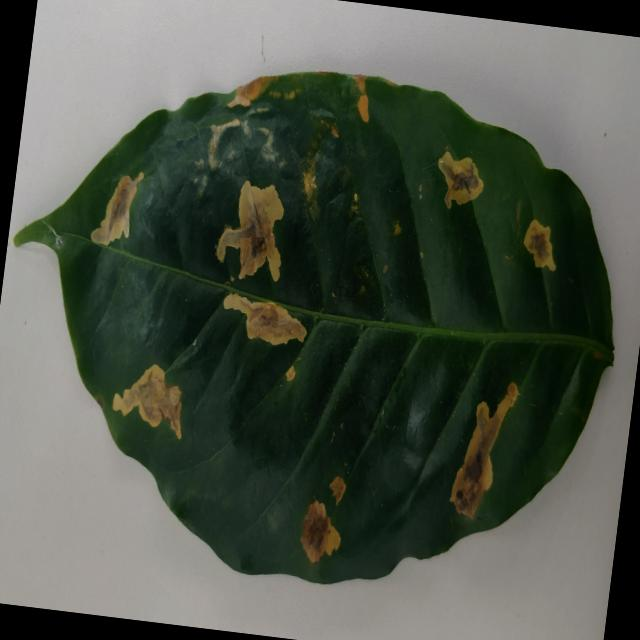KaratDaunKopi: (450, 381, 518, 519), (216, 180, 283, 281), (112, 364, 181, 438), (223, 293, 306, 344), (91, 172, 143, 245), (438, 151, 483, 208), (300, 500, 340, 563), (208, 118, 240, 170), (523, 219, 555, 270), (227, 76, 277, 107), (353, 74, 369, 122), (257, 127, 276, 161), (329, 475, 345, 505), (285, 365, 295, 381), (391, 220, 401, 235), (283, 90, 296, 98), (269, 91, 281, 97)
